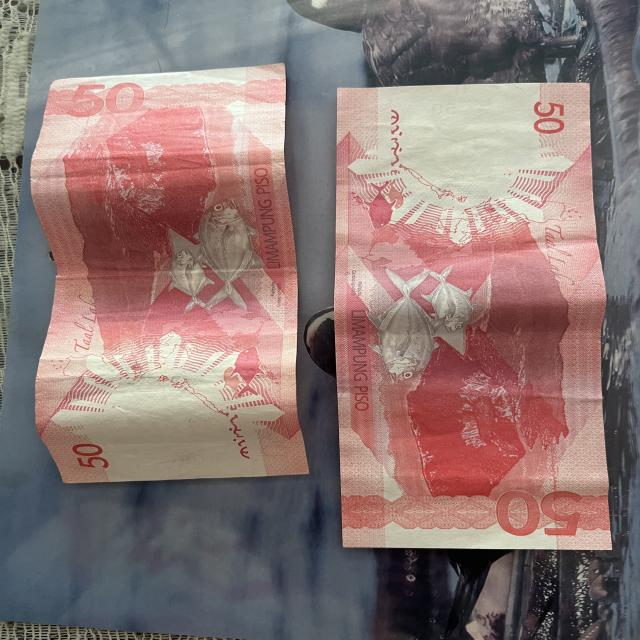50_maliputo: (154, 190, 265, 328), (369, 255, 476, 388)
50_maliputo_watermark: (220, 341, 278, 406), (356, 170, 408, 232)
value_watermark: (420, 98, 469, 120)
watermark: (401, 97, 544, 178)
